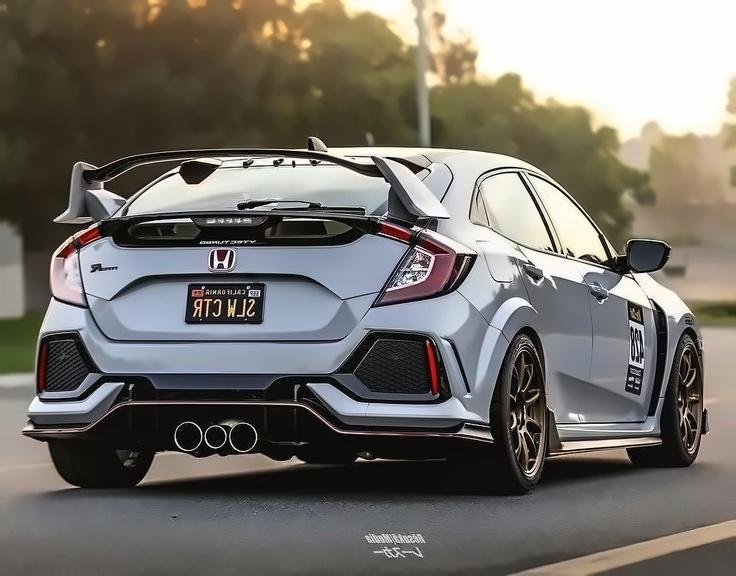Car boot: (76, 198, 419, 350)
Driver-s door - -F-R-: (525, 158, 664, 450)
Fender - -F-R-: (641, 266, 704, 441)
Fender - -R-R-: (424, 155, 540, 350)
Passenger-s door - -R-R-: (461, 150, 613, 458)
Rear bumper: (20, 291, 512, 457)
Rear light - -L-: (47, 222, 105, 311)
Rear light - -R-: (370, 211, 477, 307)
Side bumper - -R-: (540, 399, 670, 471)
Side mirror - -R-: (605, 232, 673, 280)
